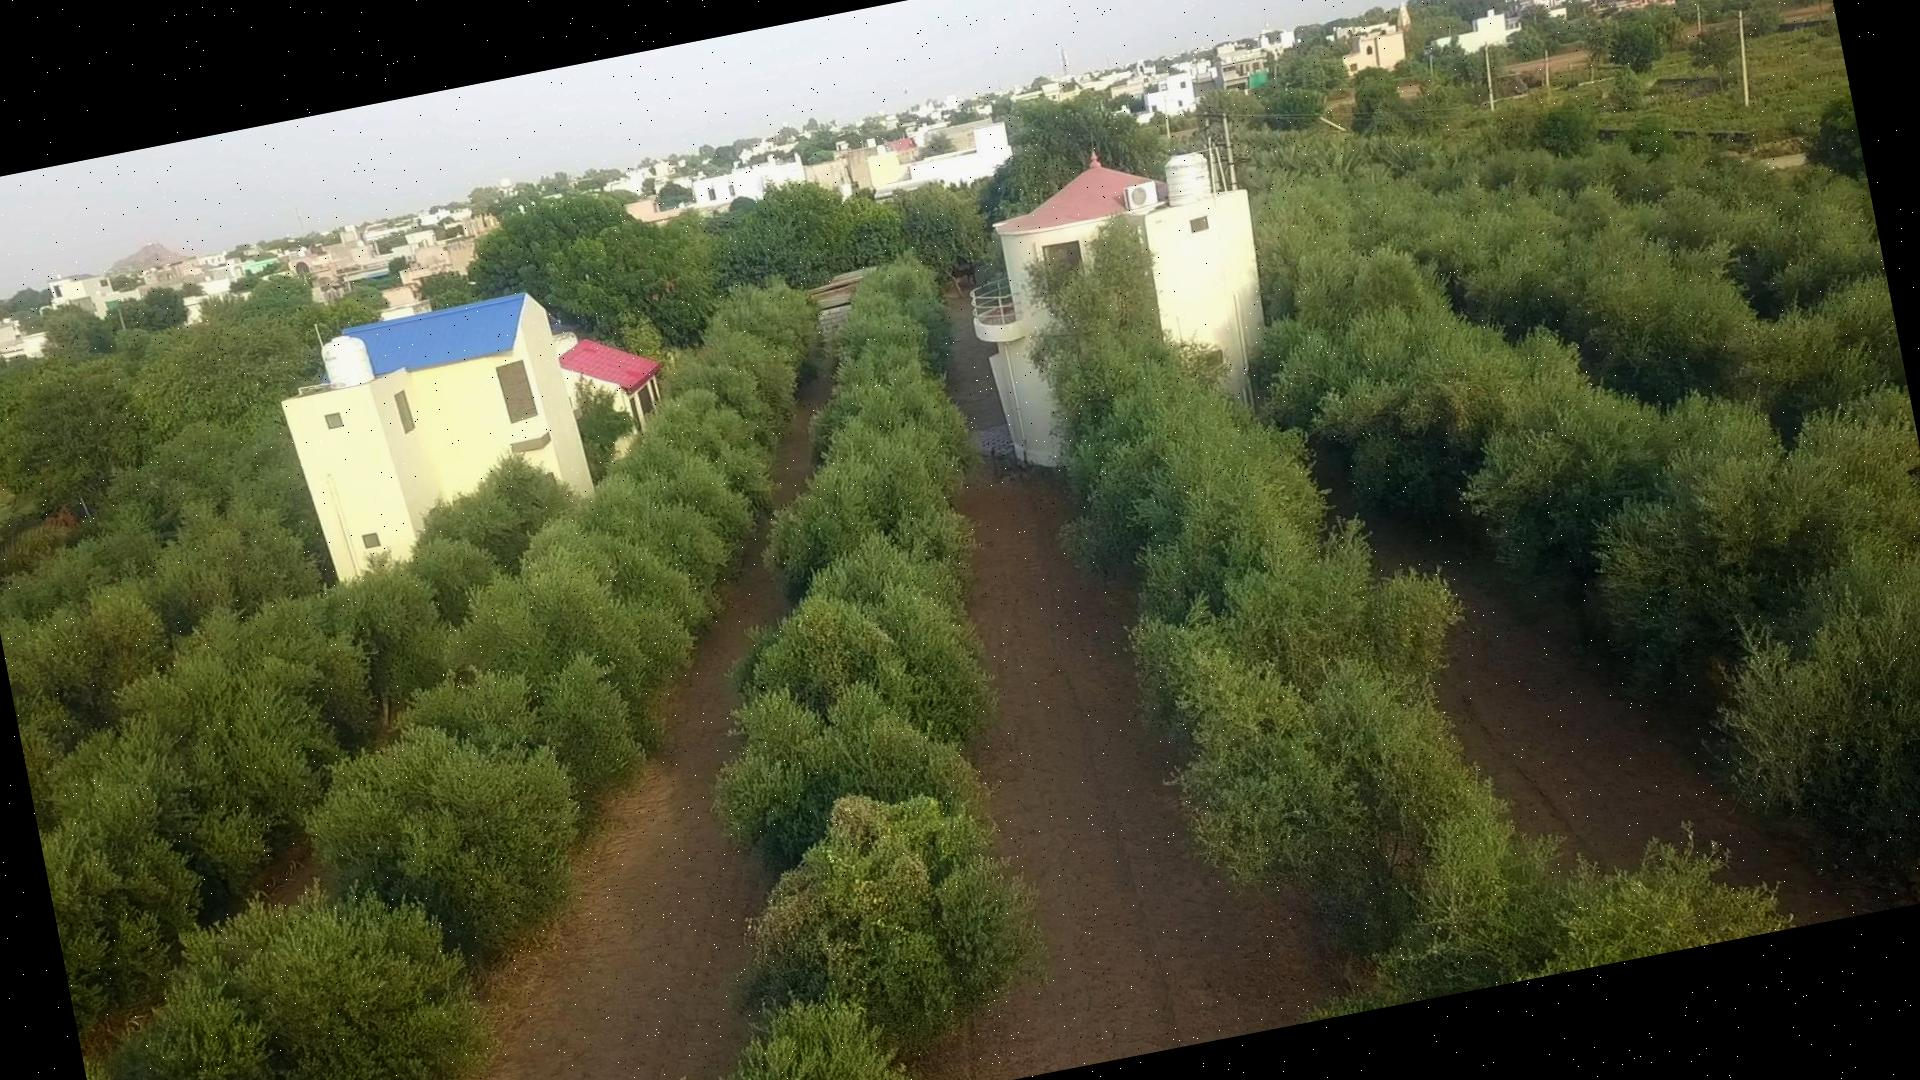canopy: (1038, 233, 1783, 1014), (86, 285, 811, 1080), (1270, 282, 1920, 851), (32, 458, 571, 1034), (715, 293, 1031, 1080)
road: (927, 462, 1342, 1080), (1375, 525, 1874, 923), (471, 545, 785, 1080)
